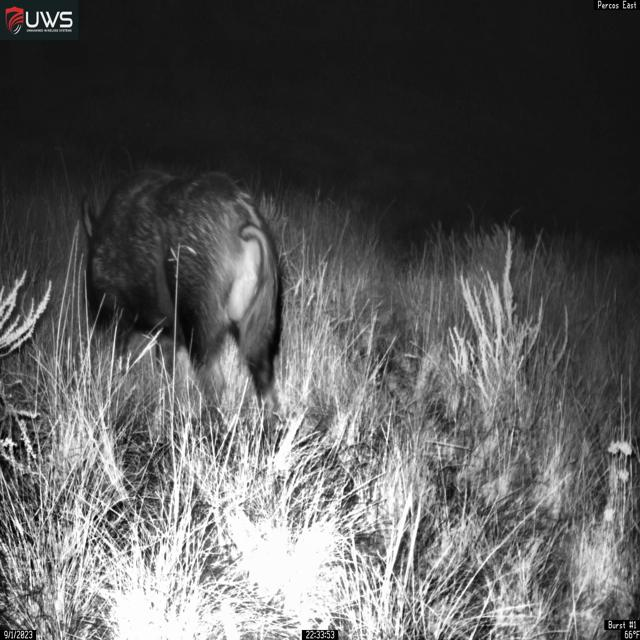pig: (80, 166, 284, 447)
